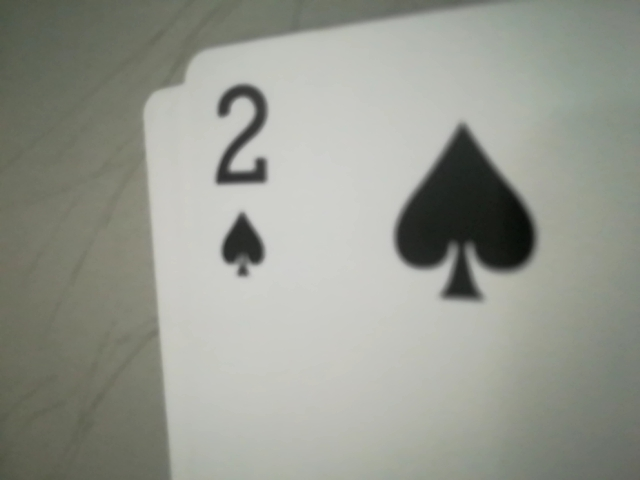ht 2: (194, 59, 289, 317)
